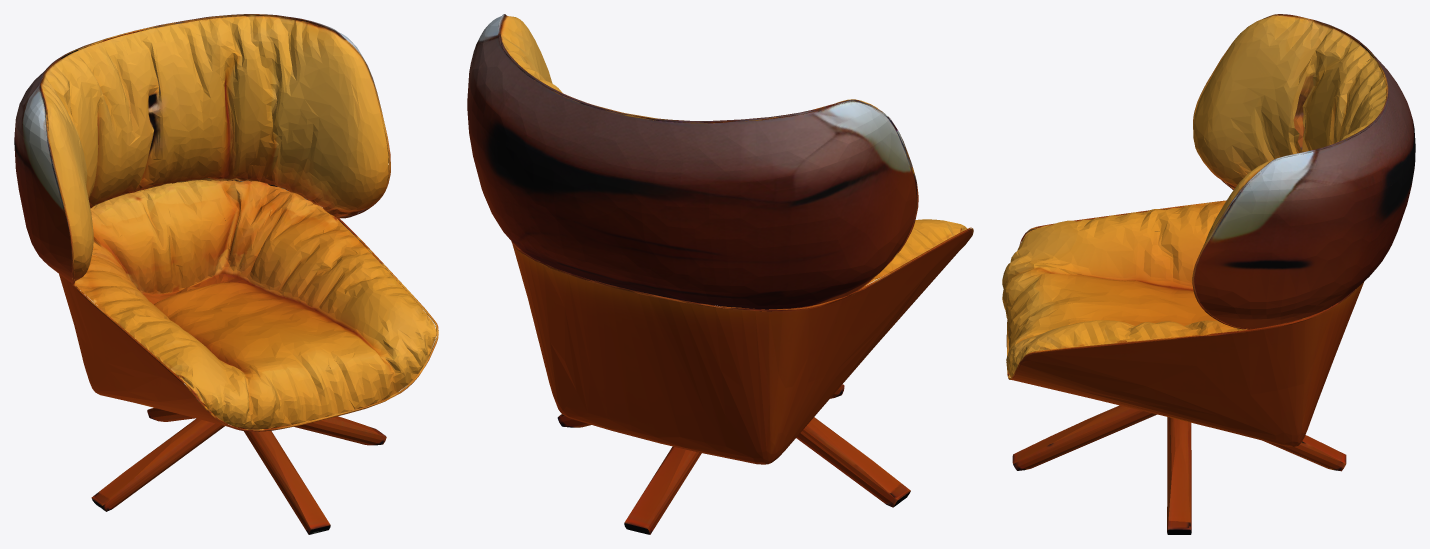
File: edited_mesh.glb
3 views of the same model, side by side, from view 1: azimuth 30°, elevation 25°; view 2: azimuth 150°, elevation 25°; view 3: azimuth 270°, elevation 25° (orthographic). The views are drawn at different scales.
Visible parts, largest first — view 1: solid_001_wire; view 2: solid_001_wire; view 3: solid_001_wire.
Part boxes in pixels (x1,y1,x2,y2): solid_001_wire: [14, 14, 438, 534]; solid_001_wire: [467, 14, 973, 534]; solid_001_wire: [1002, 14, 1415, 534].
Size of the model in its own units: 1.24 by 1.34 by 1.31.
Materials: 1 (1 with a texture image).
